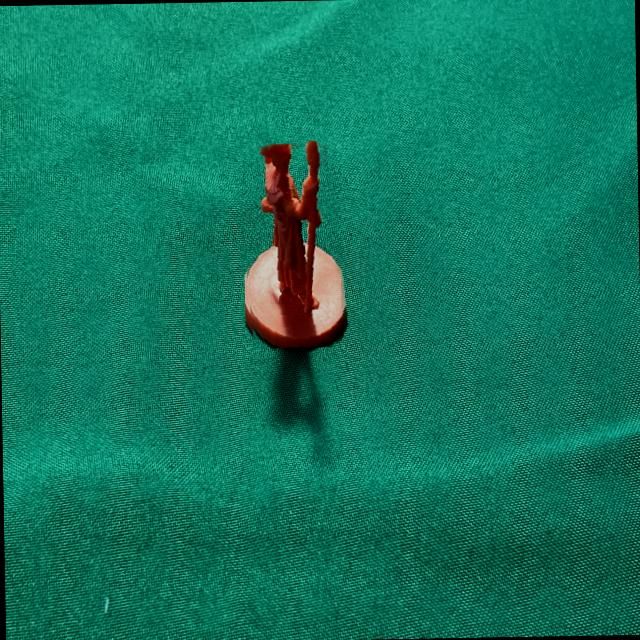amon_follower: (247, 141, 348, 349)
